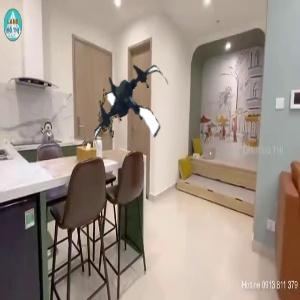drone: (84, 60, 176, 152)
